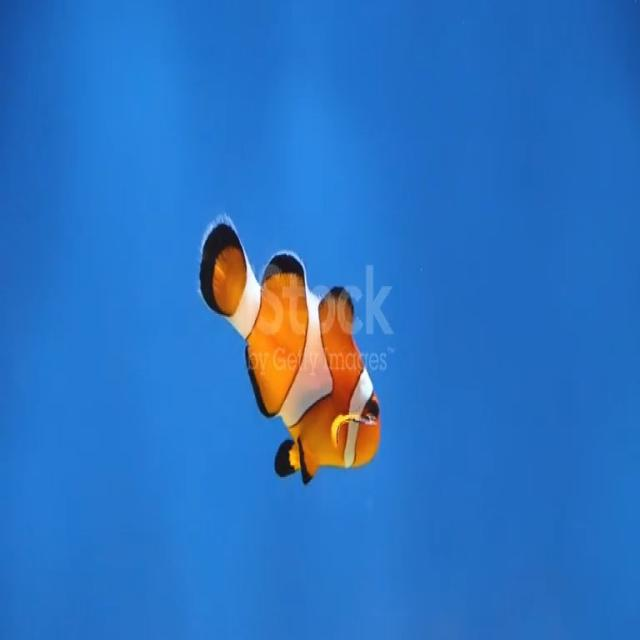fish: (195, 201, 382, 480)
